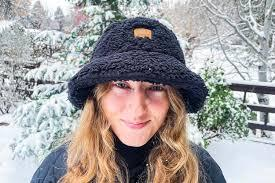cap: (62, 7, 235, 115)
